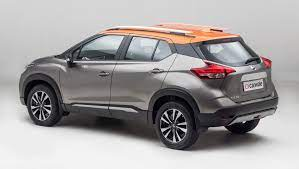Nissan: (19, 24, 278, 148)
